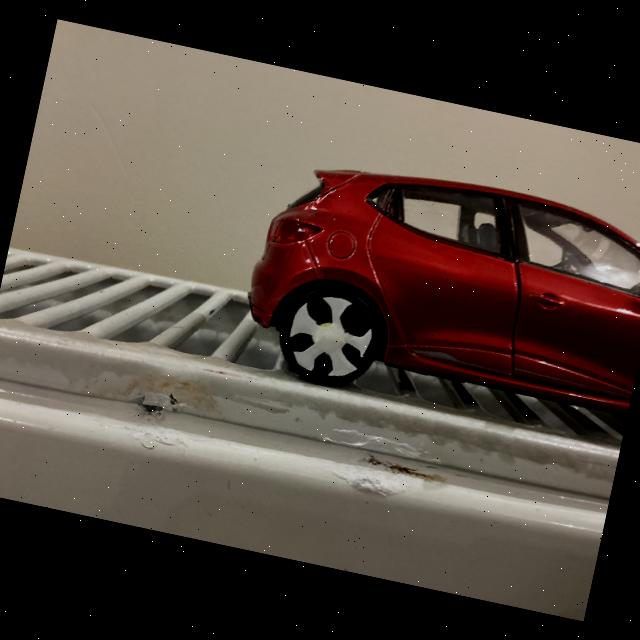Yanlis_Jant: (282, 288, 381, 384)
